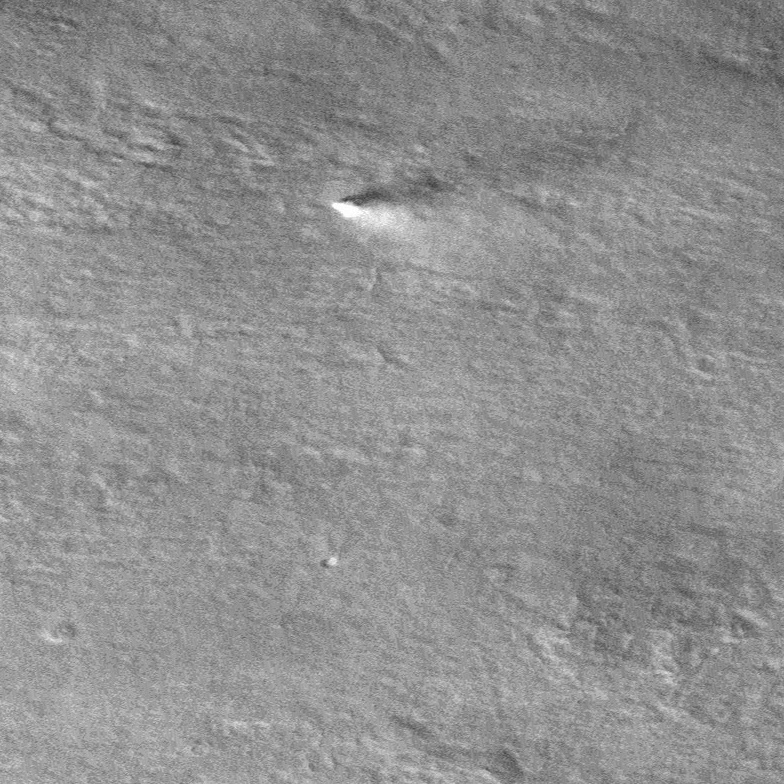dust_devil: (328, 175, 444, 233)
